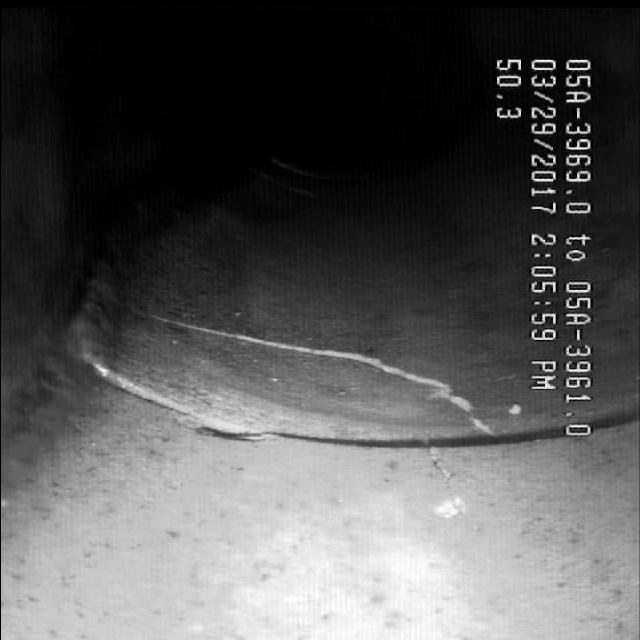Crack: (168, 320, 496, 416)
